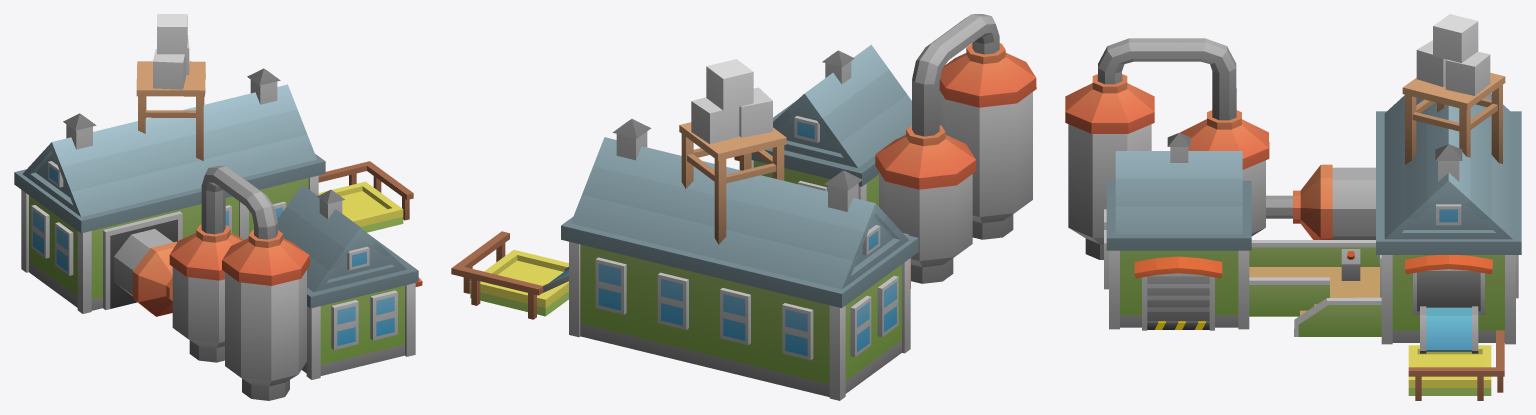
File: sugar factory house.fbx
The picture shows the model from 3 angles, left to right: view 1: azimuth 30°, elevation 25°; view 2: azimuth 150°, elevation 25°; view 3: azimuth 270°, elevation 25°; orthographic projection. The views are drawn at different scales.
Visible parts, largest first — view 1: sugar_factory_house; view 2: sugar_factory_house; view 3: sugar_factory_house.
Part boxes in pixels (bbox=[...]): sugar_factory_house: bbox=[14, 14, 422, 400]; sugar_factory_house: bbox=[451, 14, 1036, 400]; sugar_factory_house: bbox=[1065, 14, 1521, 400].
Size of the model in its own units: 1486 by 975 by 1548.
Materials: 1 (1 with a texture image).
